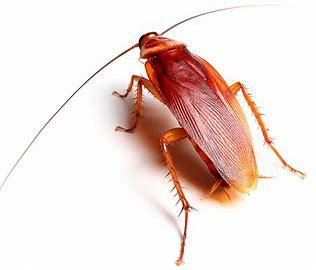cockroach: (59, 0, 304, 262)
